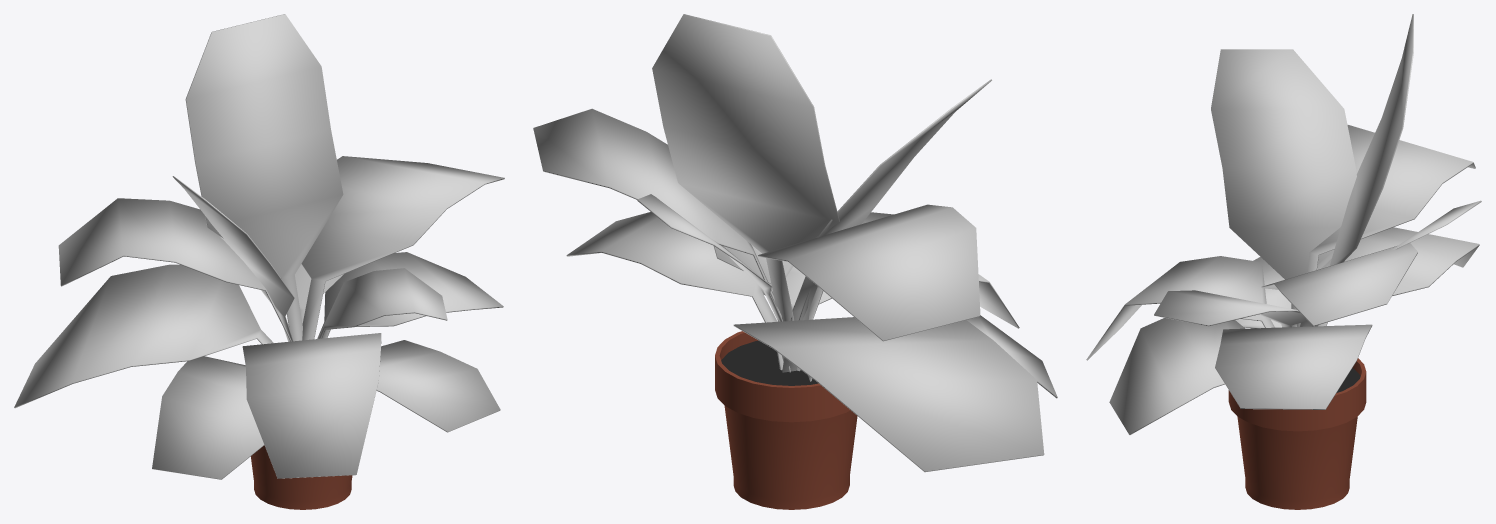
File: flower.fbx
3 renders of one model, left to right at view 1: azimuth 30°, elevation 25°; view 2: azimuth 150°, elevation 25°; view 3: azimuth 270°, elevation 25°, orthographic. The views are drawn at different scales.
Visible parts, largest first — view 1: flower, pot; view 2: flower, pot; view 3: flower, pot.
Boxes of the visible parts, left/top/right/bottom form: flower: left=14, top=14, right=504, bottom=479; pot: left=251, top=445, right=352, bottom=509; flower: left=533, top=14, right=1057, bottom=472; pot: left=715, top=331, right=857, bottom=509; flower: left=1086, top=14, right=1481, bottom=434; pot: left=1228, top=358, right=1366, bottom=509.
Size of the model in its own units: 0.4047 by 0.3586 by 0.2826.
